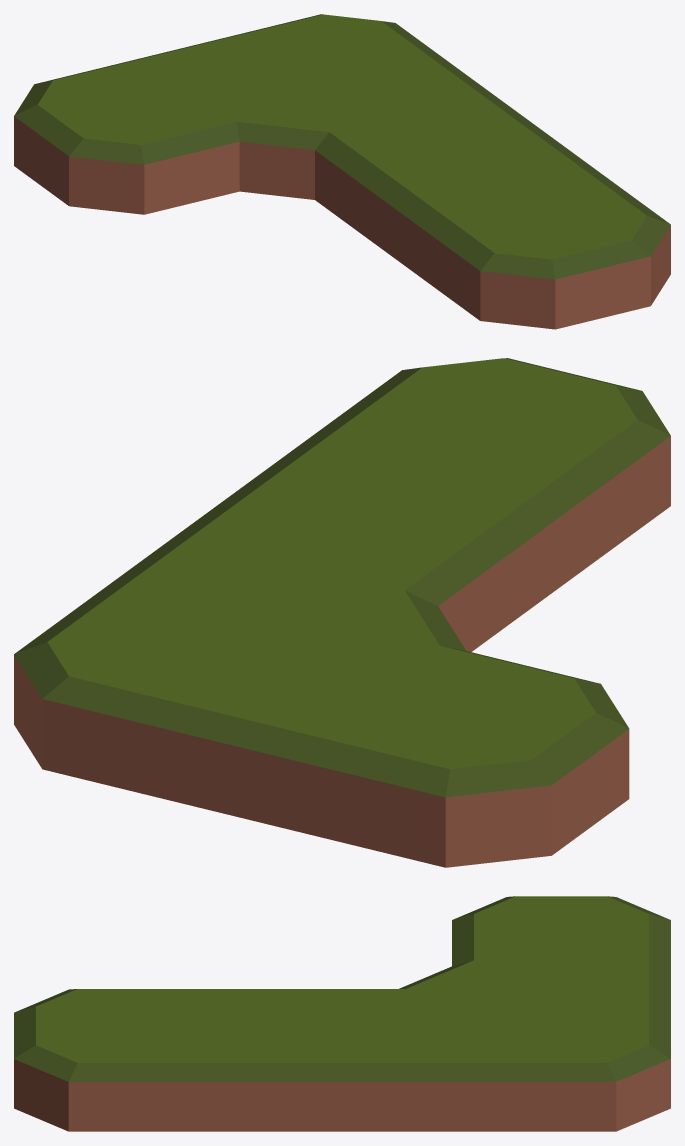
File: TB_Env_Mound_D.FBX
3 renders of one model, top to bottom at view 1: azimuth 30°, elevation 25°; view 2: azimuth 150°, elevation 25°; view 3: azimuth 270°, elevation 25°, orthographic. The views are drawn at different scales.
Parts seen in each view (by area): view 1: TB_Env_Mound_D; view 2: TB_Env_Mound_D; view 3: TB_Env_Mound_D.
Boxes of the visible parts, left/top/right/bottom form: TB_Env_Mound_D: left=14, top=14, right=670, bottom=329; TB_Env_Mound_D: left=14, top=358, right=670, bottom=867; TB_Env_Mound_D: left=14, top=896, right=670, bottom=1131.
Size of the model in its own units: 20 by 3 by 30.
